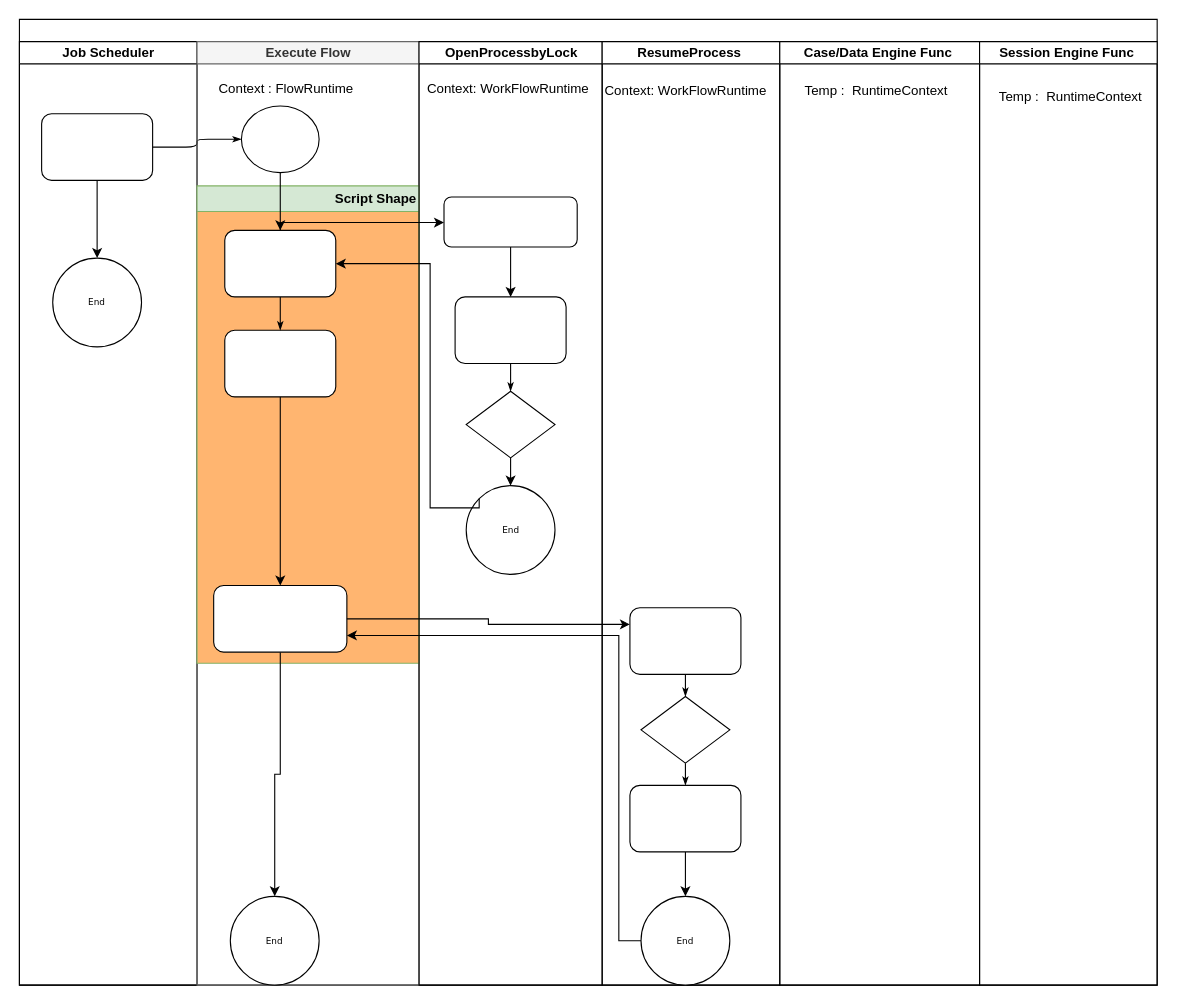
Some shapes in this 1177 by 1005 pixel diagram are drawn without their labels. Each missing label, with the centre of its shape:
currProcess = flow.openProcessbyLock: (x=280, y=263)
currProcess = flow.resumeProcess: (x=280, y=618)
No need a Context in backgorund.: (x=97, y=146)
Start: (x=279, y=139)
Update variables on currProcess: (x=280, y=363)
